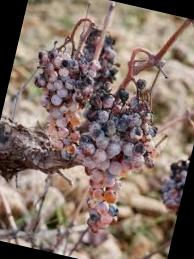Grape Rotten: (1, 11, 186, 243)
